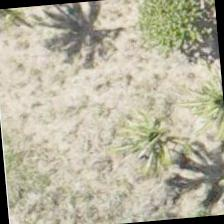Kelapa_Sawit: (119, 92, 217, 190)
